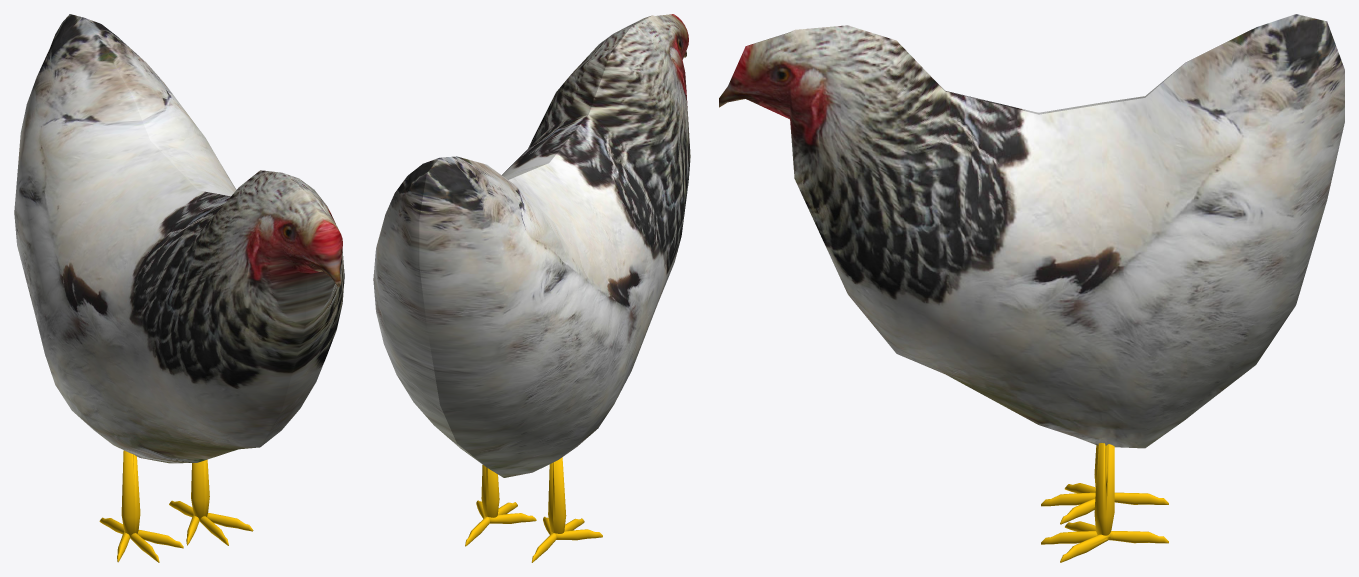
File: Tovuq.fbx
3 renders of one model, left to right at view 1: azimuth 30°, elevation 25°; view 2: azimuth 150°, elevation 25°; view 3: azimuth 270°, elevation 25°, orthographic. The views are drawn at different scales.
Visible parts, largest first — view 1: D0901A10.001; view 2: D0901A10.001; view 3: D0901A10.001.
Part boxes in pixels (box(x1,y1,x2,y2)): D0901A10.001: box(14, 14, 344, 562); D0901A10.001: box(373, 14, 690, 562); D0901A10.001: box(719, 14, 1344, 562).
Size of the model in its own units: 3983 by 7935 by 8774.
3 materials, 1 textured.
